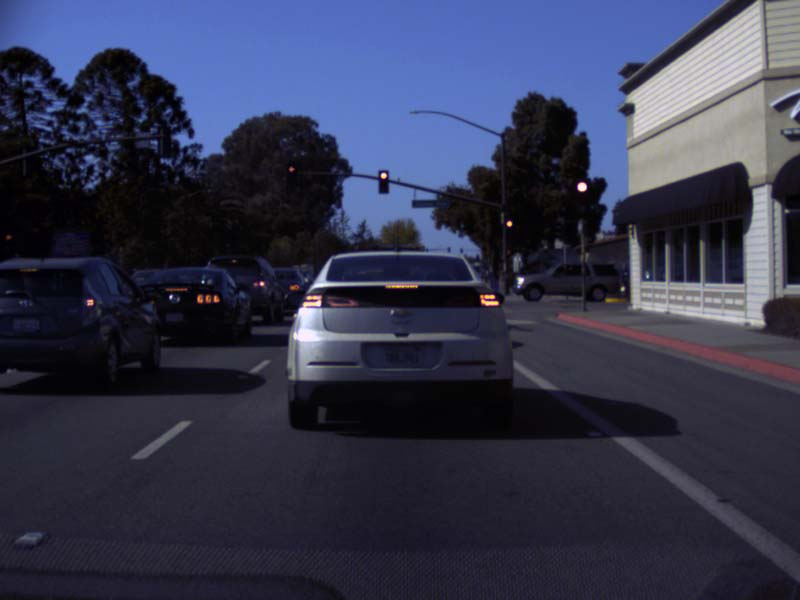Red: (573, 180, 589, 217), (2, 231, 14, 254), (286, 163, 296, 186), (378, 170, 387, 193), (506, 217, 513, 239)
